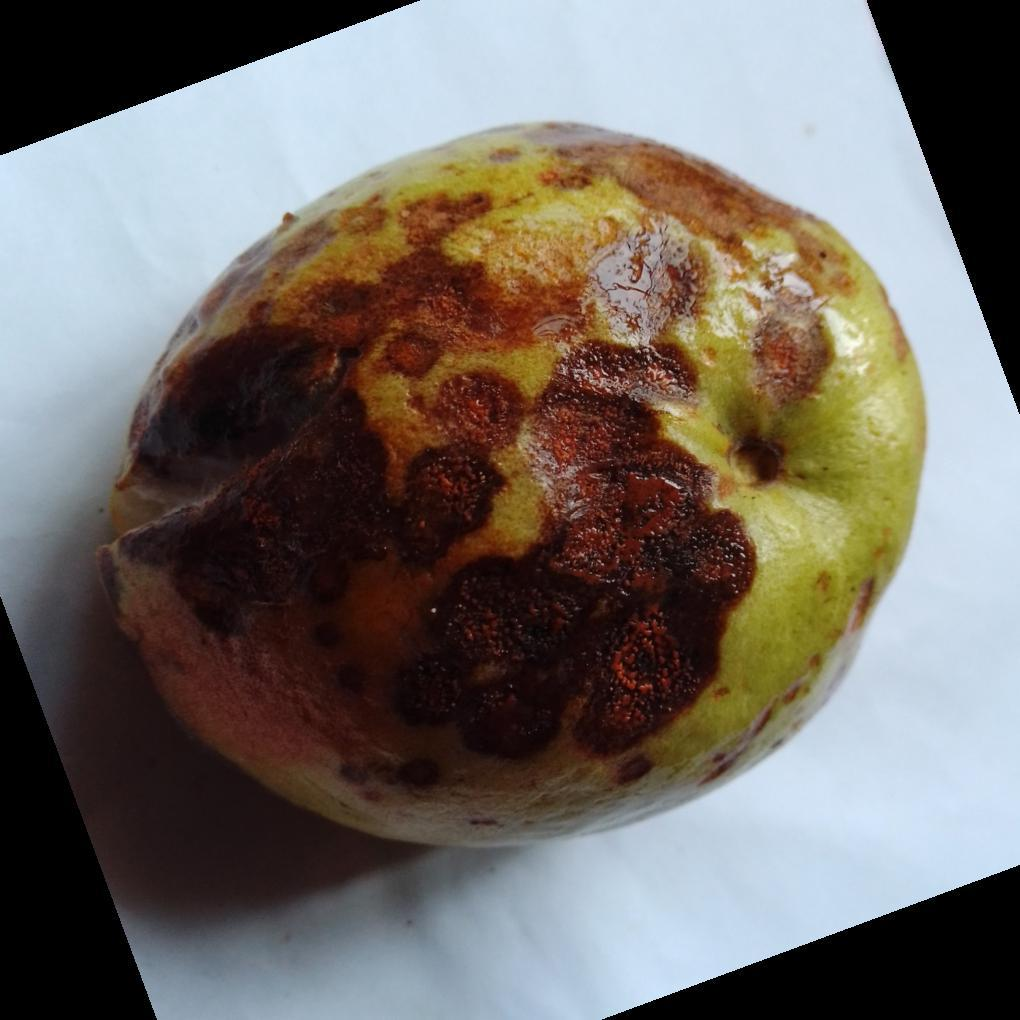FreshGuava: (95, 122, 929, 855)
FreshOrange: (95, 122, 928, 854)
